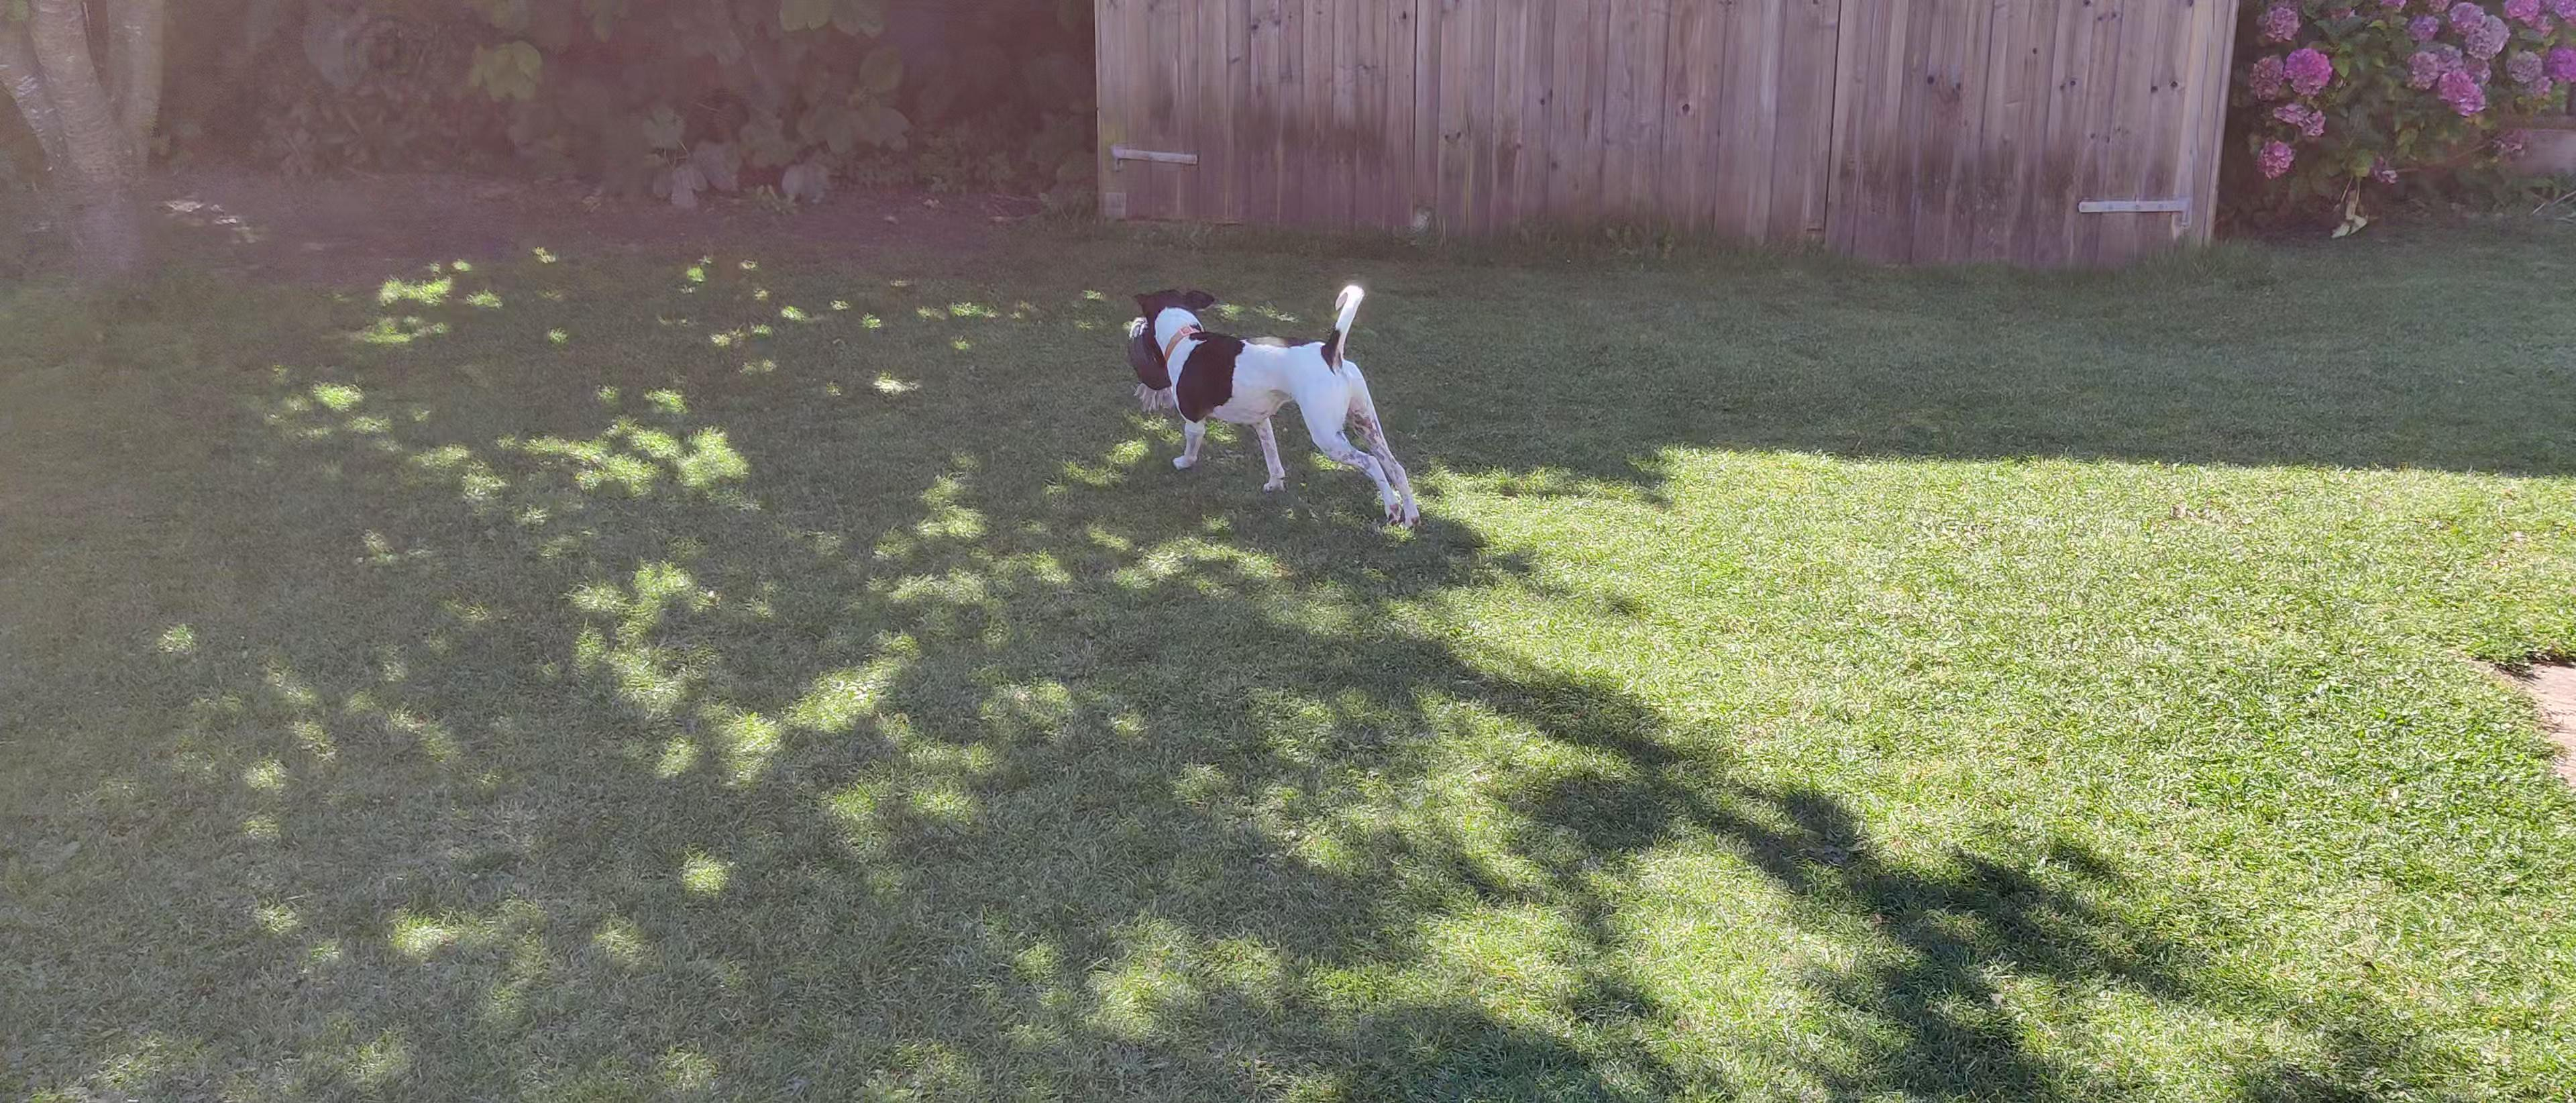Dog: (1124, 279, 1441, 538)
